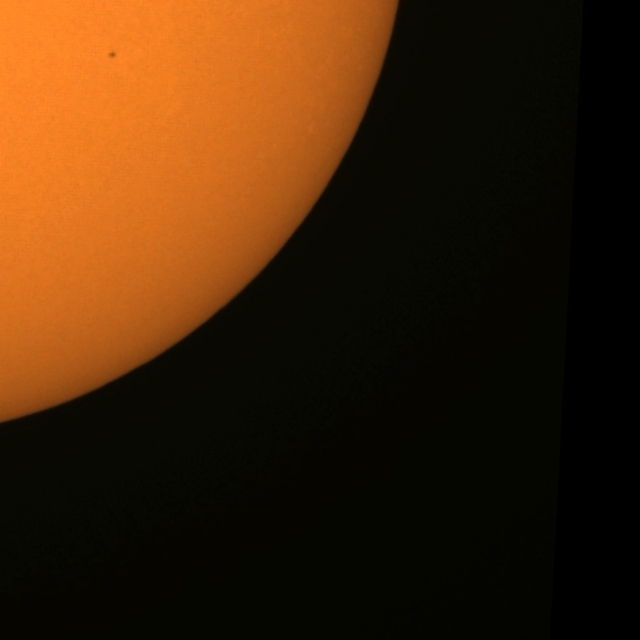sunspot: (106, 50, 118, 60)
